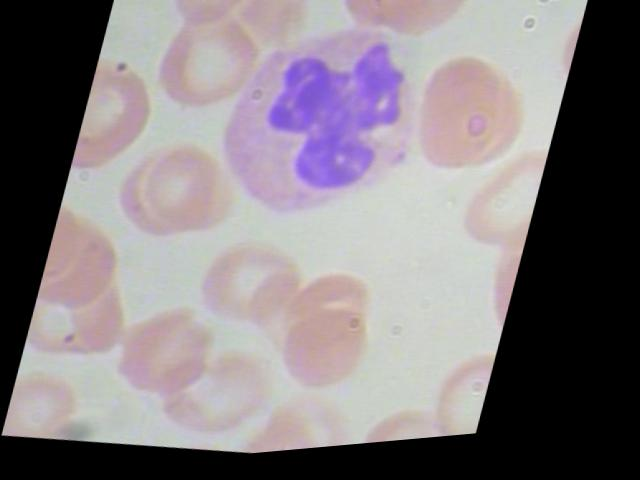White Blood Cells: (202, 0, 451, 244)
